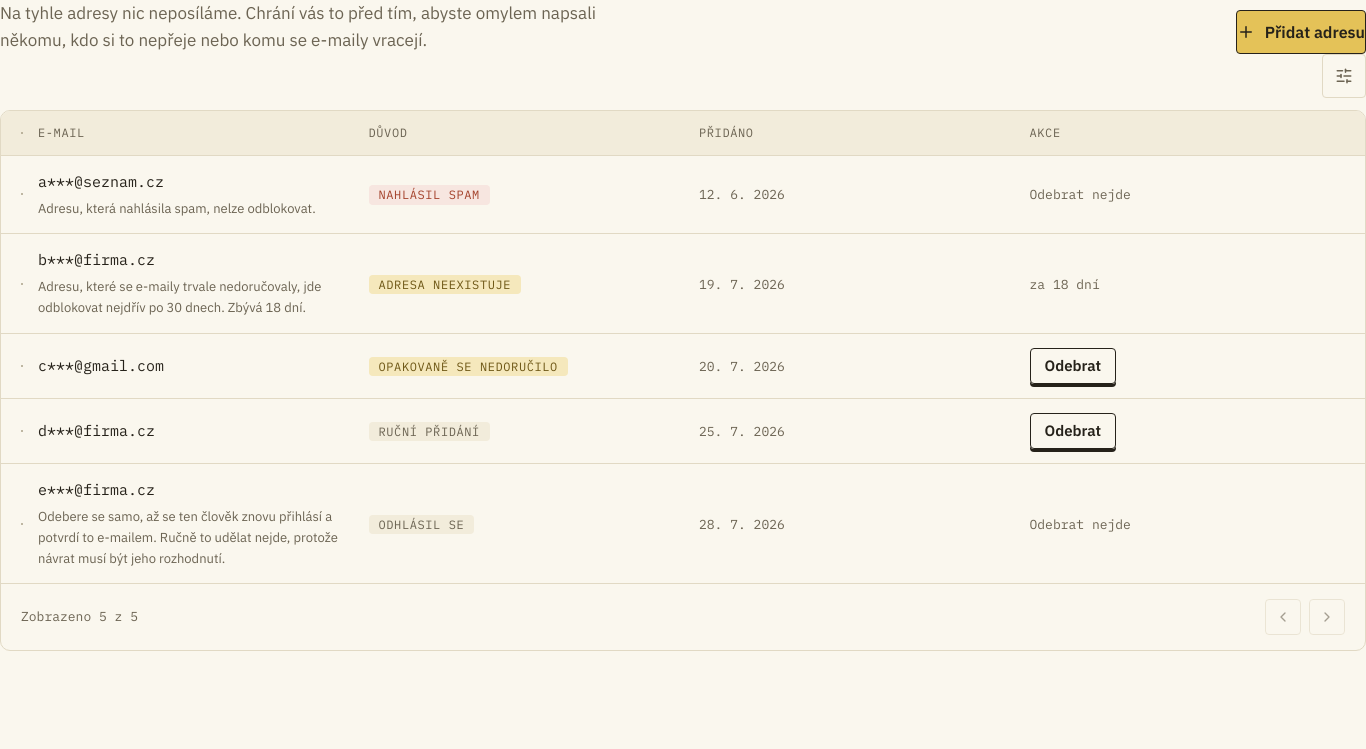
Test: SuppressionsTable › adresu jde zablokovat i tehdy, když už seznam něco obsahuje
This screenshot has width=1366, height=749.
Step 1. Click the button "Přidat adresu" → (1301,32), box [1236, 10, 1365, 54]
(page scrolled)
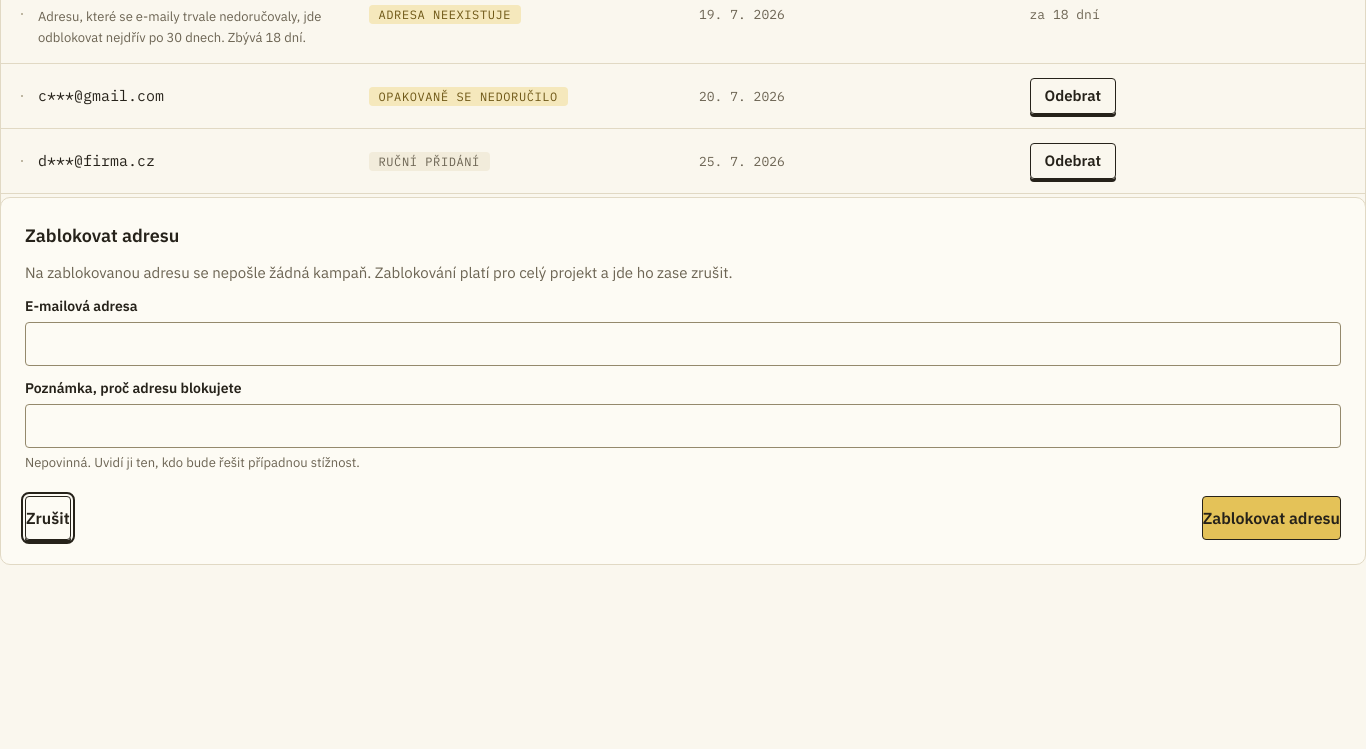
expect the field labelled "E-mailová adresa" is shown: met, box [25, 322, 1341, 366]
